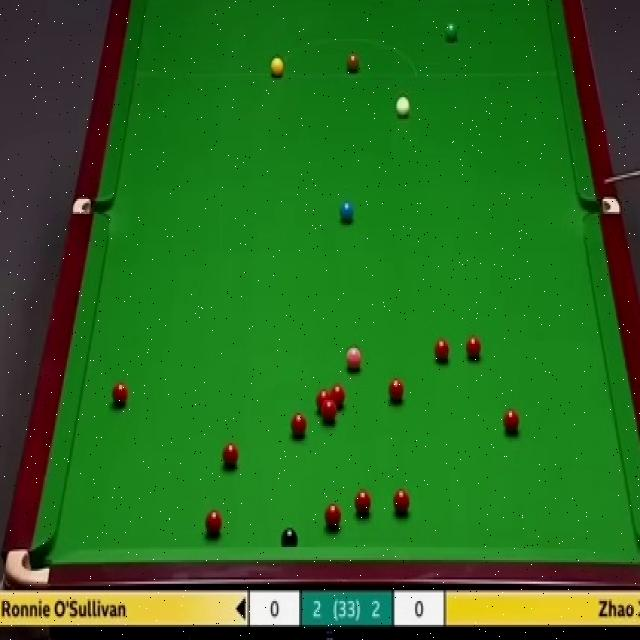black-ball: (281, 528, 298, 548)
blue-ball: (338, 197, 354, 224)
brown-ball: (346, 53, 359, 73)
green-ball: (442, 22, 459, 43)
pink-ball: (346, 342, 362, 372)
red-ball: (433, 337, 451, 368), (112, 380, 130, 410), (221, 441, 239, 470), (354, 489, 372, 517), (393, 487, 410, 516), (502, 411, 520, 438), (205, 509, 222, 537), (325, 502, 342, 530), (387, 377, 404, 404), (465, 337, 482, 362), (291, 412, 306, 438), (331, 385, 346, 411), (322, 402, 337, 424), (316, 389, 331, 411)
white-ball: (394, 92, 412, 122)
yellow-ball: (269, 55, 284, 77)
